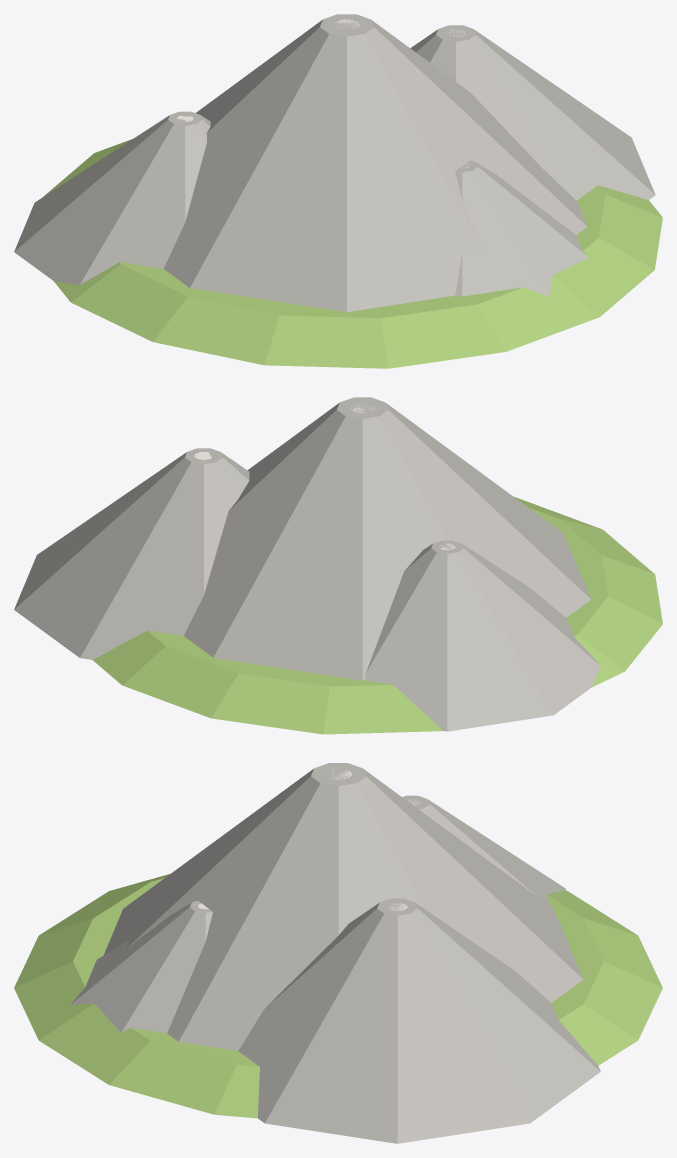
File: SM_Env_Mountain.fbx
3 views of the same model, one above another, from view 1: azimuth 30°, elevation 25°; view 2: azimuth 150°, elevation 25°; view 3: azimuth 270°, elevation 25° (orthographic). The views are drawn at different scales.
Visible parts, largest first — view 1: Mountain; view 2: Mountain; view 3: Mountain.
Boxes of the visible parts, x1,y1,x2,y2 form: Mountain: (14,14,662,368); Mountain: (14,397,662,734); Mountain: (14,763,662,1143).
Bounding box in the file's own units: 23.5 × 8 × 22.
